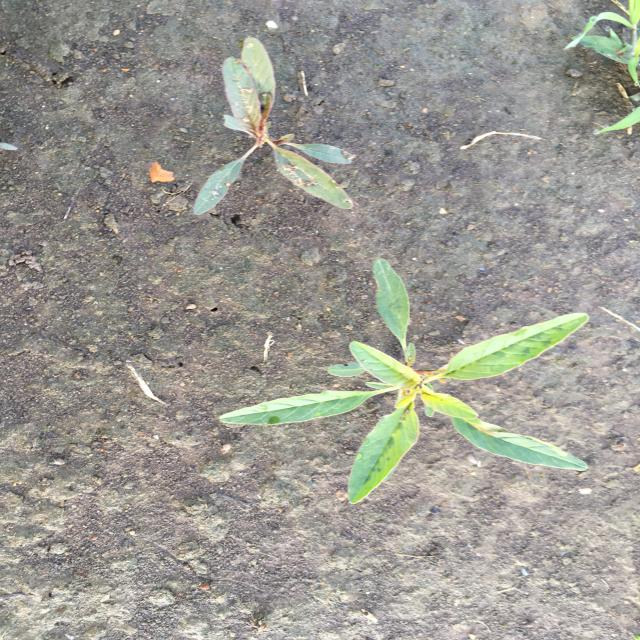Waterhemp: (216, 256, 594, 506), (190, 36, 358, 217)
